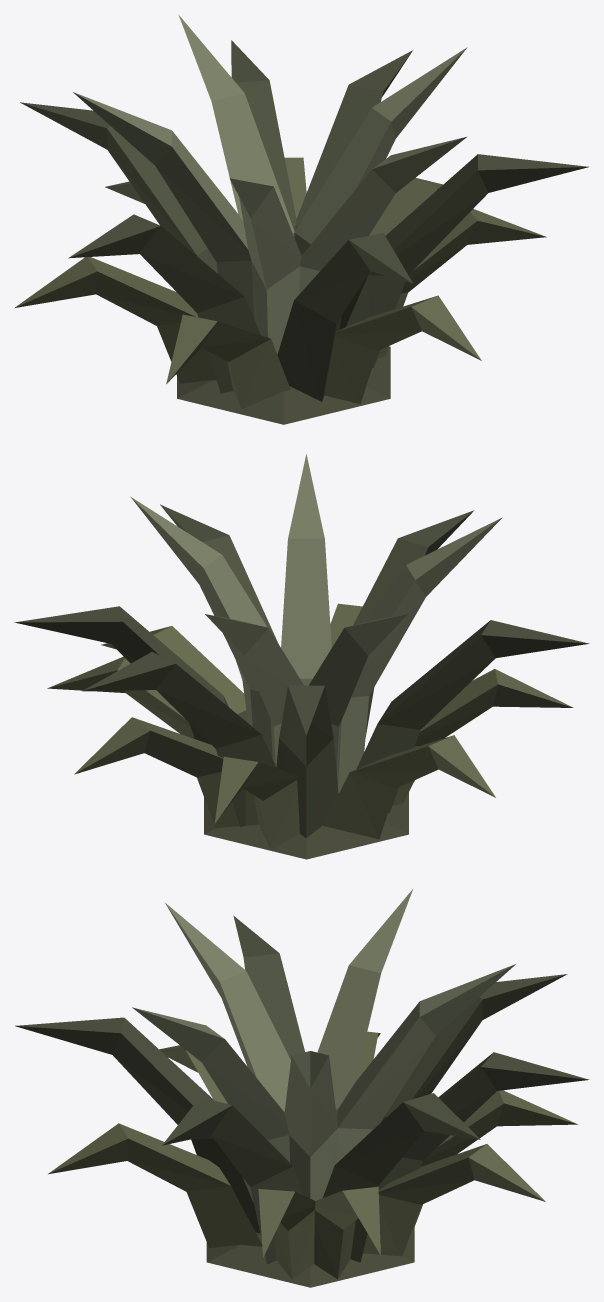
The model's file is TB_D_Env_GrassC_C.FBX.
The picture shows the model from 3 angles, top to bottom: view 1: azimuth 30°, elevation 25°; view 2: azimuth 150°, elevation 25°; view 3: azimuth 270°, elevation 25°; orthographic projection. The views are drawn at different scales.
Visible parts, largest first — view 1: TB_D_Env_GrassC_C; view 2: TB_D_Env_GrassC_C; view 3: TB_D_Env_GrassC_C.
Boxes of the visible parts, bbox=[...] form: TB_D_Env_GrassC_C: bbox=[15, 14, 588, 424]; TB_D_Env_GrassC_C: bbox=[14, 454, 589, 859]; TB_D_Env_GrassC_C: bbox=[15, 889, 589, 1287].
Size of the model in its own units: 2.21 by 1.2 by 2.29.
